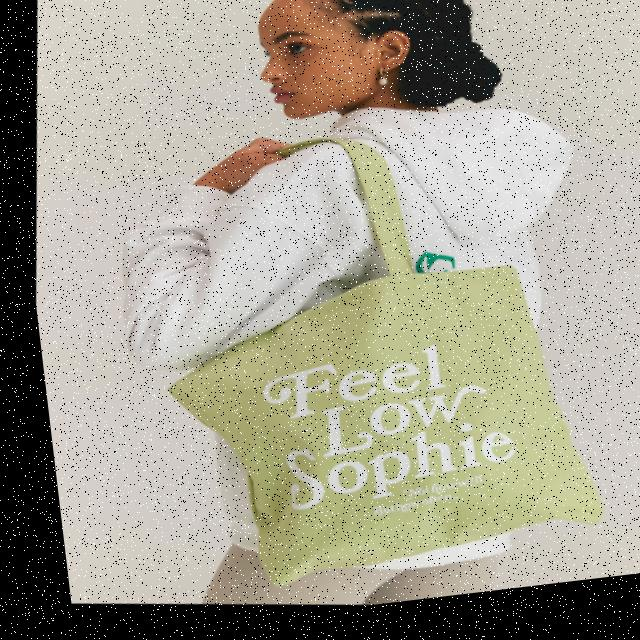ecobag: (80, 91, 640, 634)
